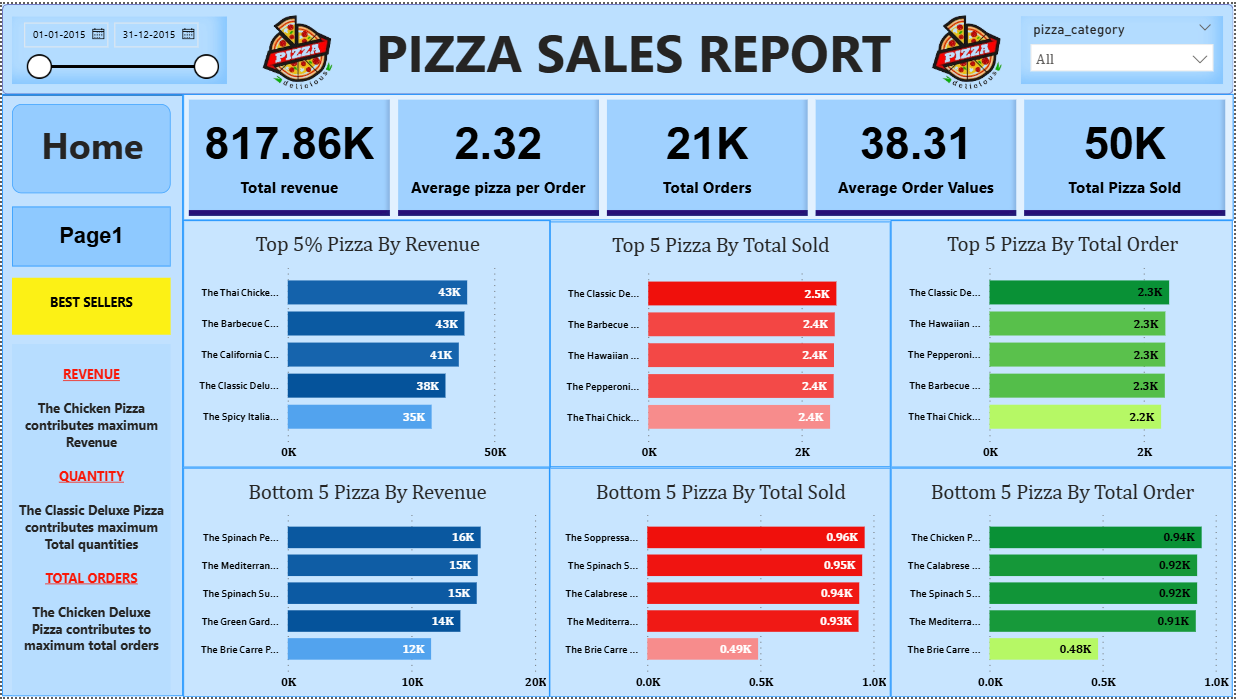

This screenshot's page, from the dashboard's own definition file:
{"tool":"powerbi","page":{"name":"Page 2","canvas":[1280,720],"ordinal":1},"visuals":[{"type":"shape","box":[0,0,1279.6,94.1],"z":0},{"type":"textbox","box":[306.3,0,717.6,94.1],"z":1000},{"type":"shape","box":[0,94.1,188.1,625.9],"z":2000},{"type":"textbox","box":[9.8,103.9,165,92.9],"z":3000},{"type":"cardVisual","fields":{"Data":["pizza_sales.Total revenue","pizza_sales.Average pizza per Order","pizza_sales.Total Orders","pizza_sales.Average Order Values","pizza_sales.Total Pizza Sold"]},"box":[188.1,94.1,1091.5,131.5],"z":4000},{"type":"image","box":[234,0,145.9,104.9],"z":5000},{"type":"image","box":[946.1,0,111.2,105.1],"z":6000},{"type":"barChart","title":"Top 5 Pizza By Revenue ","fields":{"Category":["pizza_sales.pizza_name"],"Y":["pizza_sales.Total revenue"]},"box":[188,225,381.5,256.6],"z":7000},{"type":"barChart","title":"Top 5 Pizza By Total Order","fields":{"Y":["pizza_sales.Total Orders"],"Category":["pizza_sales.pizza_name"]},"box":[923.5,225,355.4,256.6],"z":8000},{"type":"barChart","title":"Top 5 Pizza By Total Sold","fields":{"Category":["pizza_sales.pizza_name"],"Y":["pizza_sales.Total Pizza Sold"]},"box":[569.5,226.4,354,255.2],"z":9000},{"type":"barChart","title":" Bottom 5 Pizza By Revenue ","fields":{"Category":["pizza_sales.pizza_name"],"Y":["pizza_sales.Total revenue"]},"box":[188,482,381,238],"z":10000},{"type":"barChart","title":"Bottom 5 Pizza By Total Sold","fields":{"Category":["pizza_sales.pizza_name"],"Y":["pizza_sales.Total Pizza Sold"]},"box":[569,482,354,238],"z":11000},{"type":"barChart","title":"Bottom 5 Pizza By Total Order","fields":{"Category":["pizza_sales.pizza_name"],"Y":["pizza_sales.Total Orders"]},"box":[924,482,355,238],"z":12000},{"type":"actionButton","box":[9.8,210.3,165,62.3],"z":13000},{"type":"textbox","box":[10,285,165,59],"z":14000},{"type":"textbox","box":[9.8,353.3,165,366.7],"z":15000},{"type":"slicer","fields":{"Values":["pizza_sales.pizza_category"]},"box":[1058,12.5,210.2,70.5],"z":16000},{"type":"slicer","fields":{"Values":["pizza_sales.order_date"]},"box":[10.3,12.8,223.1,70.5],"z":17000}]}

Visuals, with their boxes in screenshot pixels (x1, y1, x2, y2), scaled from the page's 1280x720 canvas onto the 1237x699 screenshot:
shape: 0 0 1236 91
textbox: 296 0 990 91
shape: 0 91 182 698
textbox: 9 101 169 191
cardVisual - pizza_sales.Total revenue x pizza_sales.Average pizza per Order: 182 91 1236 219
image: 226 0 367 102
image: 914 0 1022 102
"Top 5 Pizza By Revenue " barChart: 182 218 550 468
"Top 5 Pizza By Total Order" barChart: 892 218 1236 468
"Top 5 Pizza By Total Sold" barChart: 550 220 892 468
" Bottom 5 Pizza By Revenue " barChart: 182 468 550 698
"Bottom 5 Pizza By Total Sold" barChart: 550 468 892 698
"Bottom 5 Pizza By Total Order" barChart: 893 468 1236 698
actionButton: 9 204 169 265
textbox: 10 277 169 334
textbox: 9 343 169 698
slicer - pizza_sales.pizza_category: 1022 12 1226 81
slicer - pizza_sales.order_date: 10 12 226 81
